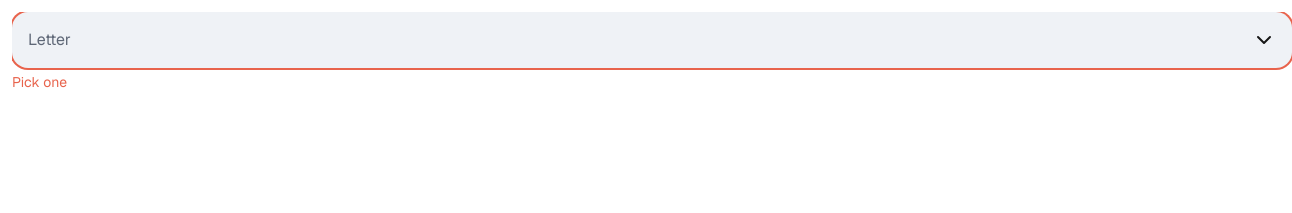
an error goes at the first change of the value, in any field (no help from the form) › a selector drops its error when another option is chosen
Check: the text "Pick one" is shown, box [12, 73, 67, 91]
Click the dropdown at x=49, y=40, box [28, 14, 1276, 66]
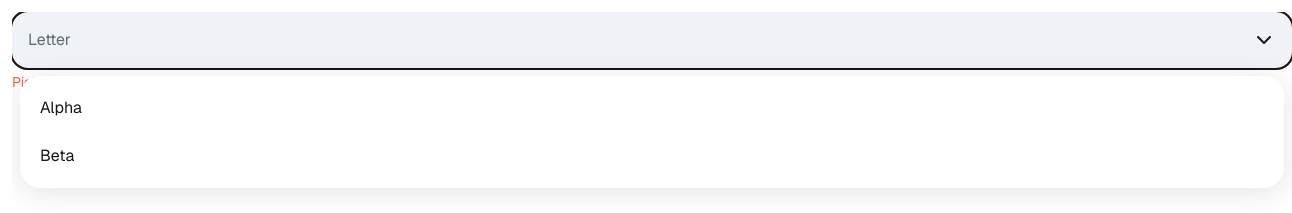
Click the option "Beta" at x=57, y=156, box [40, 145, 74, 166]
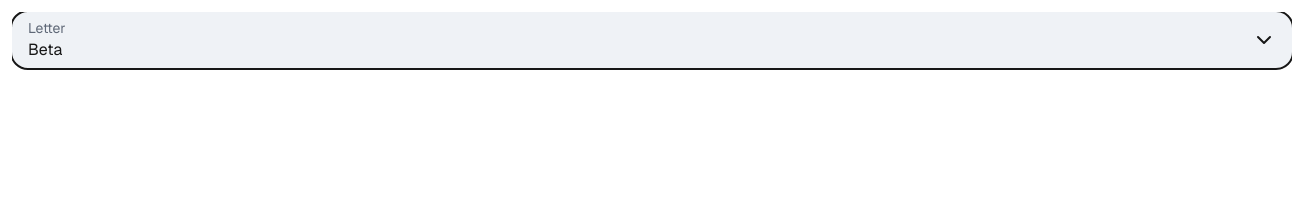
Check: the text "Pick one" is gone
